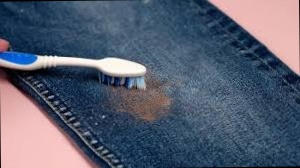earth: (123, 94, 165, 117)
